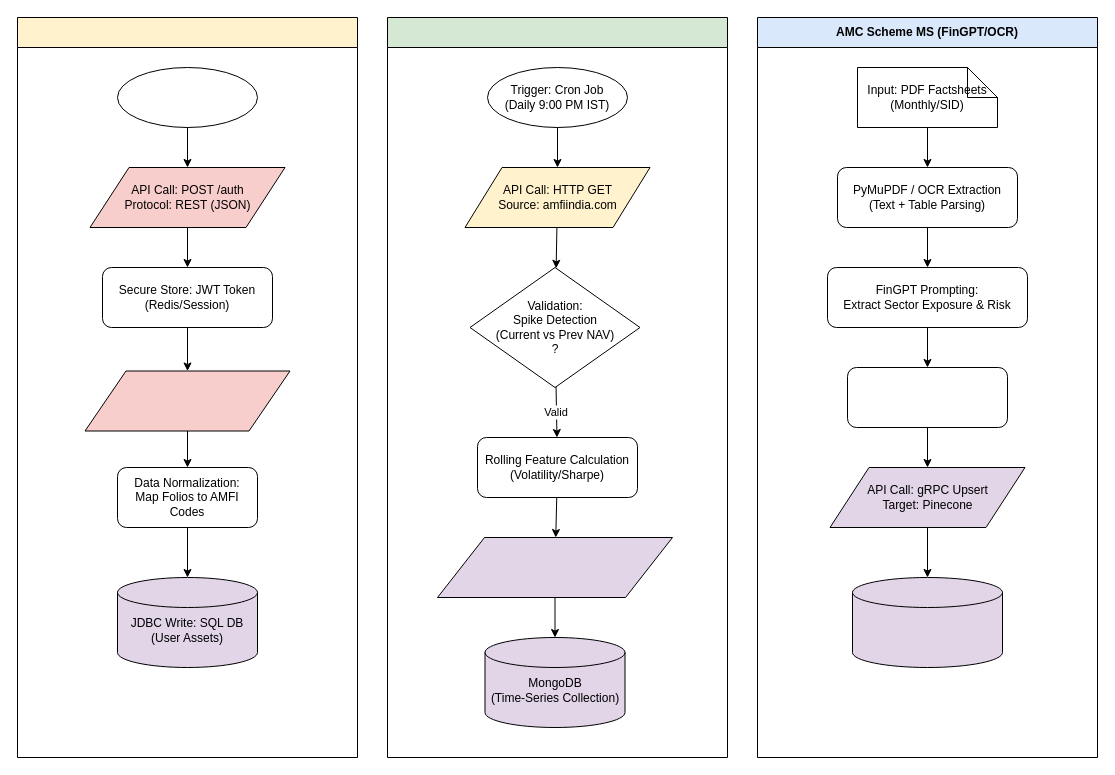
Some shapes in this 1115 by 775 pixel diagram are drawn without their labels. Each missing label, with the box of its shape:
API Call: GET /cas_fetch Header: Bearer JWT: (84, 370, 290, 431)
Bulk Insert: NoSQL Driver Format: BSON/JSON: (436, 536, 672, 598)
Chunking & Text-to-Vector (OpenAI Embeddings): (846, 366, 1008, 428)
MF Central Sync MS (JWT/OTP): (16, 16, 358, 758)
NAV MS (DAILY SCRAPER): (386, 16, 728, 758)
Trigger: Client Consent (User PAN + OTP): (116, 66, 258, 128)
Vector Store (Metadata: SchemeID): (852, 576, 1002, 668)
